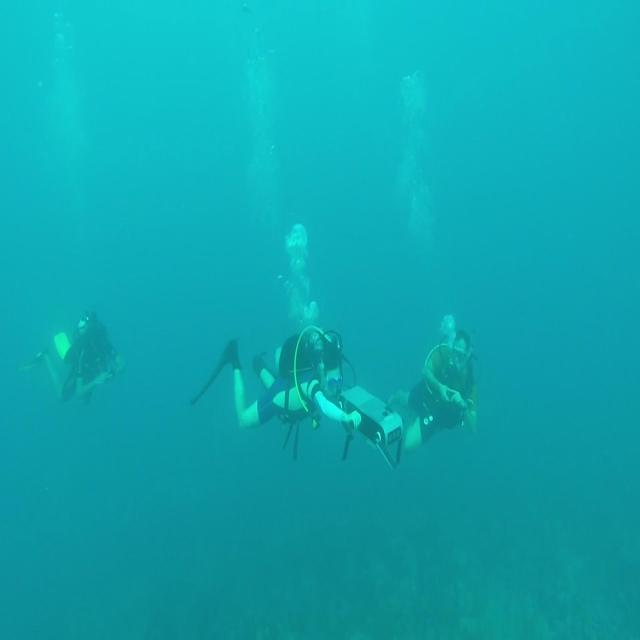human: (190, 323, 362, 460), (387, 313, 478, 454), (19, 308, 124, 404)
